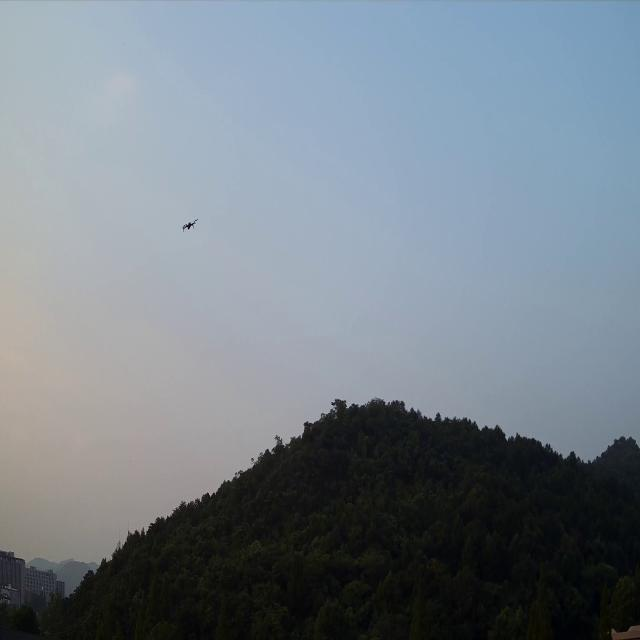UAV: (180, 218, 199, 234)
